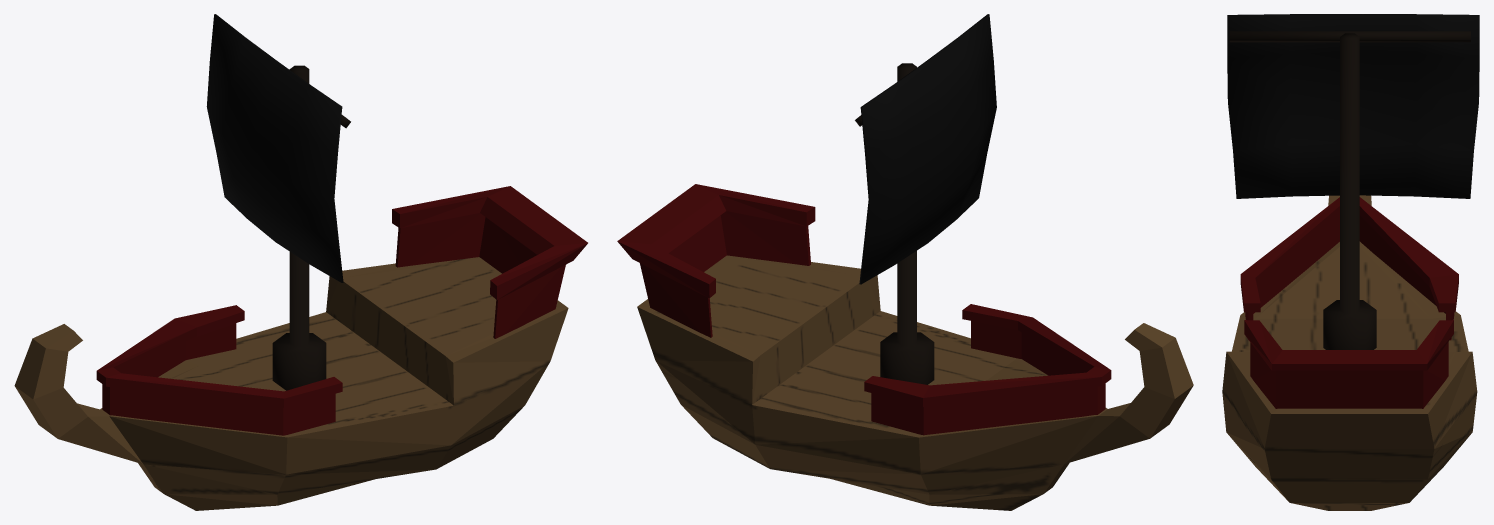
File: sovrag_krade.fbx
3 renders of one model, left to right at view 1: azimuth 30°, elevation 25°; view 2: azimuth 150°, elevation 25°; view 3: azimuth 270°, elevation 25°, orthographic.
Parts seen in each view (by area): view 1: Sphere, Sphere_001, Plane, Cylinder_005; view 2: Sphere, Sphere_001, Plane, Cylinder_005; view 3: Plane, Sphere, Sphere_001, Cylinder_005, Cylinder_006.
Boxes of the visible parts, x1,y1,x2,y2 form: Sphere: [14, 257, 568, 510]; Sphere_001: [96, 186, 587, 435]; Plane: [206, 14, 343, 282]; Cylinder_005: [272, 65, 326, 390]; Sphere: [637, 255, 1193, 510]; Sphere_001: [617, 184, 1111, 435]; Plane: [859, 14, 996, 284]; Cylinder_005: [880, 63, 934, 384]; Plane: [1227, 14, 1479, 198]; Sphere: [1222, 195, 1477, 510]; Sphere_001: [1240, 197, 1458, 408]; Cylinder_005: [1323, 33, 1376, 349]; Cylinder_006: [1229, 31, 1470, 42].
Bounding box in the file's own units: 5.13 × 3.95 × 2.18.
Materials: 4 (1 with a texture image).
